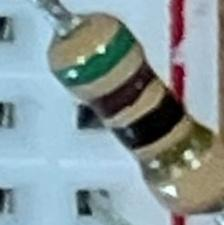Black: (115, 91, 188, 152), (90, 63, 158, 120)
Green: (54, 26, 138, 89)
Side-Gold: (141, 124, 215, 184)
